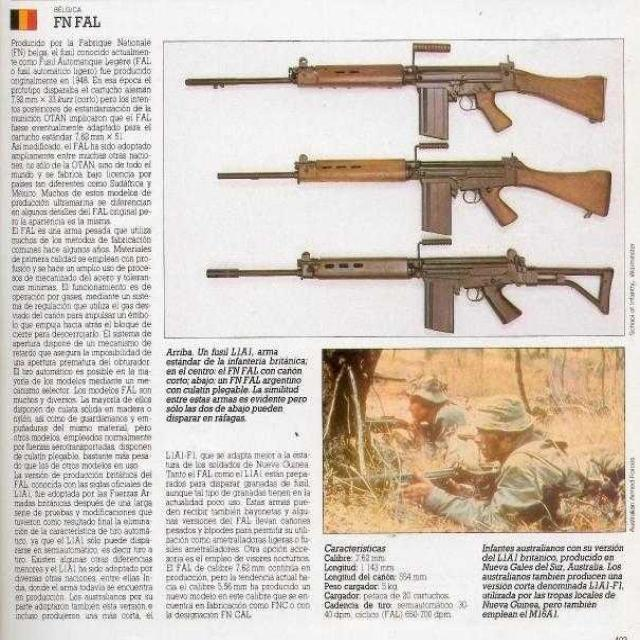heavyweapon: (177, 221, 620, 361), (183, 33, 607, 145), (198, 139, 632, 241)
